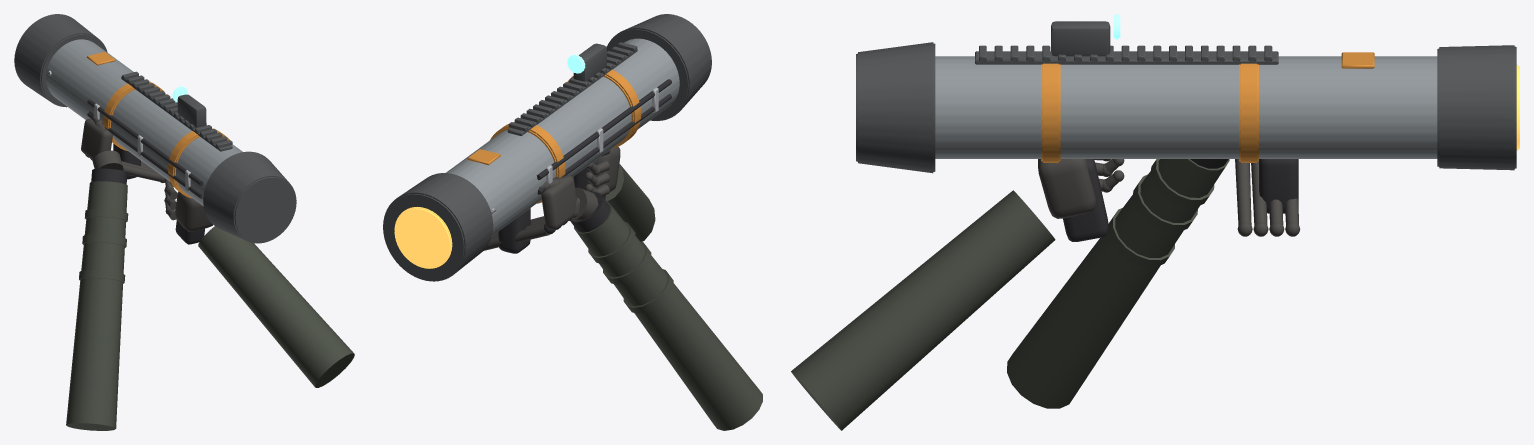
Rendered from vm_rocket.glb.
3 renders of one model, left to right at view 1: azimuth 30°, elevation 25°; view 2: azimuth 150°, elevation 25°; view 3: azimuth 270°, elevation 25°, orthographic. The views are drawn at different scales.
Visible parts, largest first — view 1: vm_rocket; view 2: vm_rocket; view 3: vm_rocket.
Boxes of the visible parts, left/top/right/bottom form: vm_rocket: left=14, top=14, right=354, bottom=430; vm_rocket: left=383, top=14, right=762, bottom=430; vm_rocket: left=791, top=14, right=1519, bottom=430.
Bounding box in the file's own units: 0.5648 × 0.781 × 1.1.
